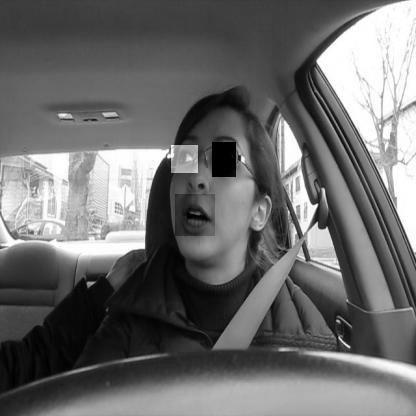seatbelt: (157, 74, 300, 346)
